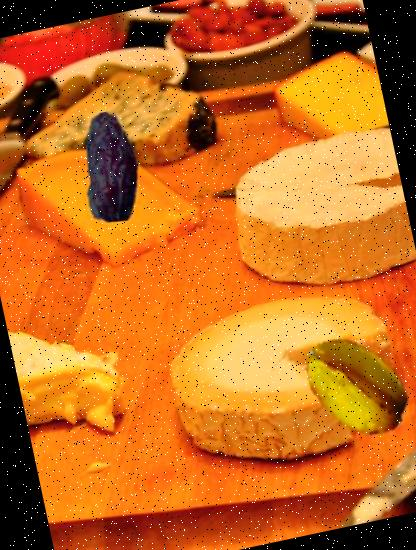Carambula: (288, 319, 416, 455)
Dates: (46, 102, 176, 232)
